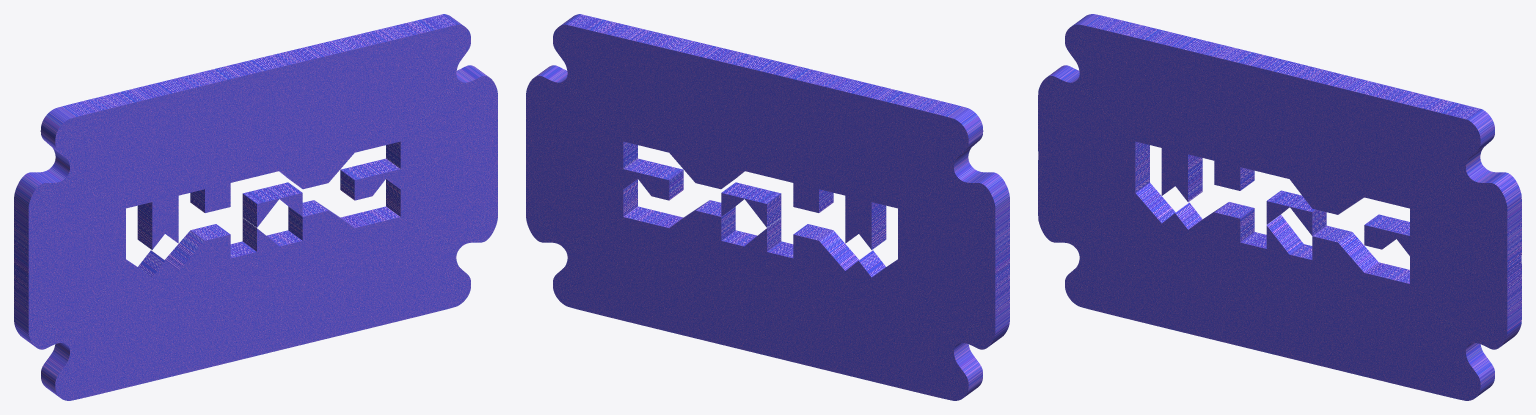
File: purple-glitter.glb
3 renders of one model, left to right at view 1: azimuth 30°, elevation 25°; view 2: azimuth 150°, elevation 25°; view 3: azimuth 330°, elevation 25°, orthographic.
Parts seen in each view (by area): view 1: Razor; view 2: Razor; view 3: Razor.
Boxes of the visible parts, x1=… form: Razor: x1=14, y1=14, x2=497, y2=400; Razor: x1=526, y1=14, x2=1009, y2=400; Razor: x1=1038, y1=14, x2=1521, y2=400.
Bounding box in the file's own units: 0.5609 × 0.3234 × 0.03.
1 material, 1 textured.
